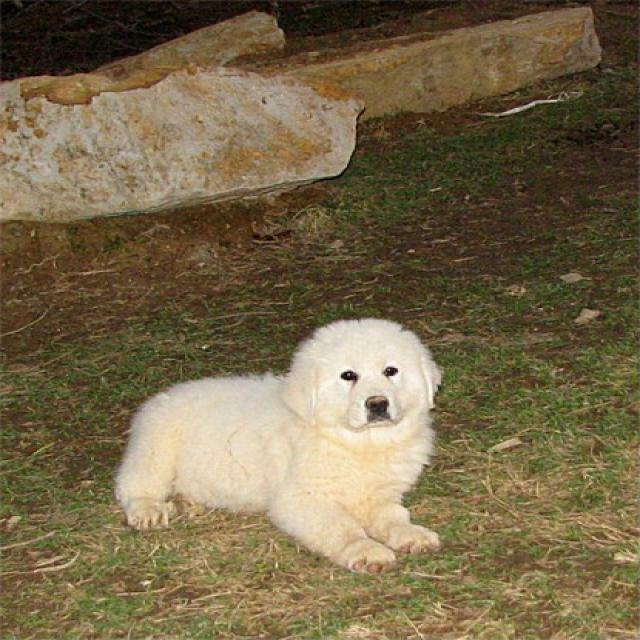dog-great_pyrenees: (105, 315, 458, 580)
